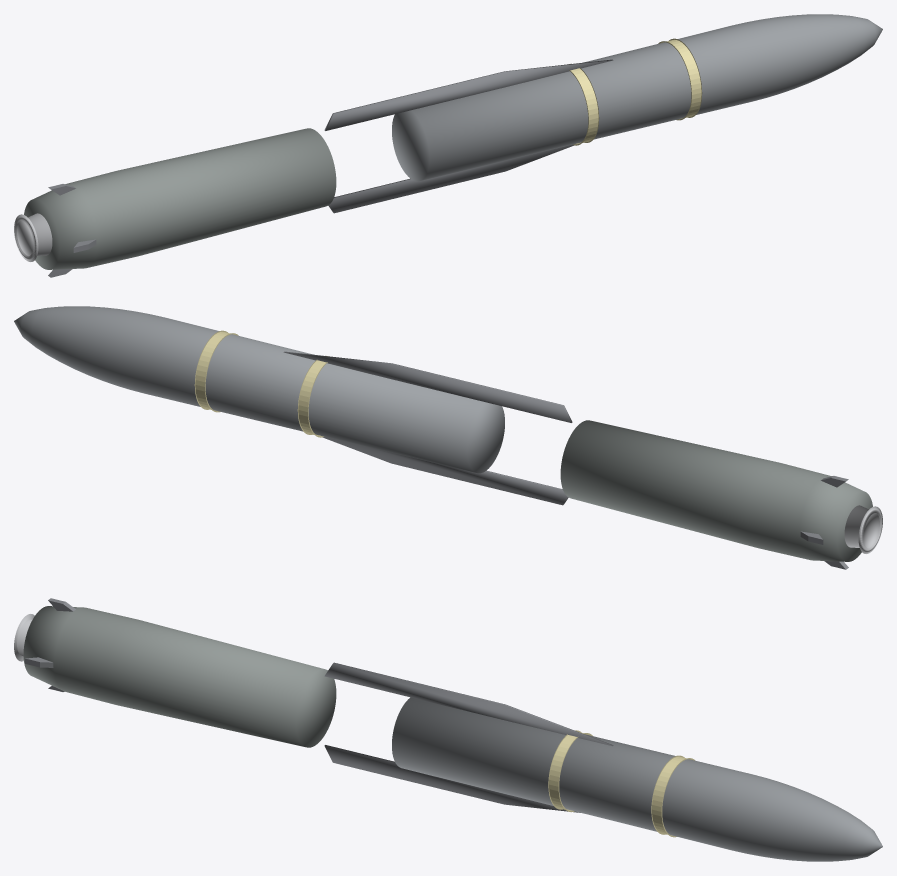
File: US_ASW_SUBROC_LOD0.fbx
3 views of the same model, one above another, from view 1: azimuth 30°, elevation 25°; view 2: azimuth 150°, elevation 25°; view 3: azimuth 330°, elevation 25° (orthographic).
Parts seen in each view (by area): view 1: WPN_US_ASW_SUBROC_LOD0_Body, WPN_US_ASW_SUBROC_LOD0_Tail, WPN_US_ASW_SUBROC_LOD0_Detail, WPN_US_ASW_SUBROC_LOD0_Marking, WPN_US_ASW_SUBROC_LOD0_Propulsor, WPN_US_ASW_SUBROC_LOD0_Fins; view 2: WPN_US_ASW_SUBROC_LOD0_Body, WPN_US_ASW_SUBROC_LOD0_Tail, WPN_US_ASW_SUBROC_LOD0_Detail, WPN_US_ASW_SUBROC_LOD0_Marking, WPN_US_ASW_SUBROC_LOD0_Propulsor, WPN_US_ASW_SUBROC_LOD0_Fins; view 3: WPN_US_ASW_SUBROC_LOD0_Body, WPN_US_ASW_SUBROC_LOD0_Tail, WPN_US_ASW_SUBROC_LOD0_Detail, WPN_US_ASW_SUBROC_LOD0_Marking.
Part boxes in pixels (box(x1,y1,x2,y2)): WPN_US_ASW_SUBROC_LOD0_Body: box(392, 14, 882, 181); WPN_US_ASW_SUBROC_LOD0_Tail: box(24, 128, 336, 269); WPN_US_ASW_SUBROC_LOD0_Detail: box(324, 59, 613, 213); WPN_US_ASW_SUBROC_LOD0_Marking: box(569, 38, 702, 145); WPN_US_ASW_SUBROC_LOD0_Propulsor: box(14, 213, 52, 261); WPN_US_ASW_SUBROC_LOD0_Fins: box(48, 184, 96, 277); WPN_US_ASW_SUBROC_LOD0_Body: box(14, 306, 504, 473); WPN_US_ASW_SUBROC_LOD0_Tail: box(560, 420, 872, 561); WPN_US_ASW_SUBROC_LOD0_Detail: box(283, 351, 572, 505); WPN_US_ASW_SUBROC_LOD0_Marking: box(194, 330, 327, 437); WPN_US_ASW_SUBROC_LOD0_Propulsor: box(844, 505, 882, 553); WPN_US_ASW_SUBROC_LOD0_Fins: box(800, 476, 848, 569); WPN_US_ASW_SUBROC_LOD0_Body: box(392, 697, 882, 861); WPN_US_ASW_SUBROC_LOD0_Tail: box(23, 606, 336, 747); WPN_US_ASW_SUBROC_LOD0_Detail: box(324, 662, 613, 812); WPN_US_ASW_SUBROC_LOD0_Marking: box(548, 730, 694, 837).
Bounding box in the file's own units: 6.7 × 0.6581 × 0.7409.
